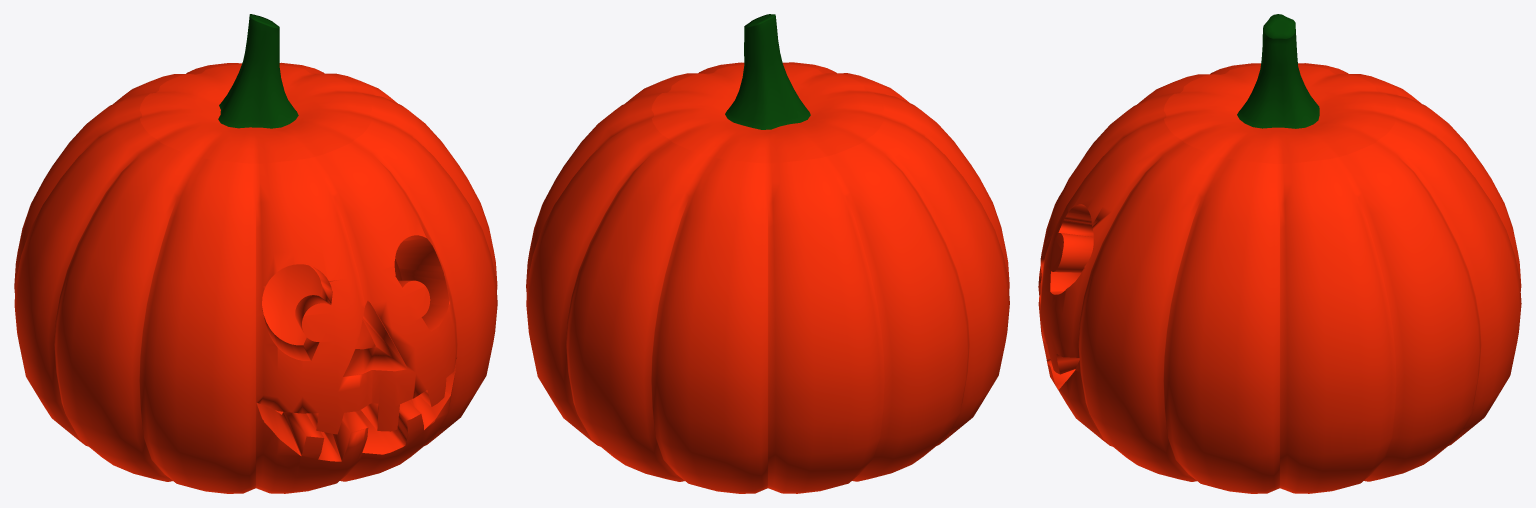
File: pumpkin.dae
The picture shows the model from 3 angles, left to right: view 1: azimuth 30°, elevation 25°; view 2: azimuth 150°, elevation 25°; view 3: azimuth 270°, elevation 25°; orthographic projection.
Visible parts, largest first — view 1: botout, botin, topout, stem; view 2: botout, topout, stem; view 3: botout, topout, stem, botin.
Boxes of the visible parts, box(x1,y1,x2,y2) form: botout: box(14, 62, 497, 493); botin: box(256, 235, 456, 461); topout: box(140, 65, 372, 163); stem: box(218, 14, 298, 128); botout: box(526, 62, 1009, 493); topout: box(651, 64, 884, 163); stem: box(725, 14, 810, 129); botout: box(1038, 63, 1521, 493); topout: box(1164, 65, 1395, 163); stem: box(1237, 14, 1319, 128); botin: box(1039, 204, 1093, 390).
Bounding box in the file's own units: 1.93 × 1.87 × 1.93.
